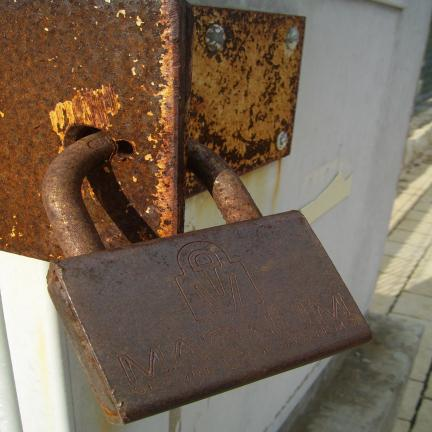karat: (0, 0, 371, 424)
